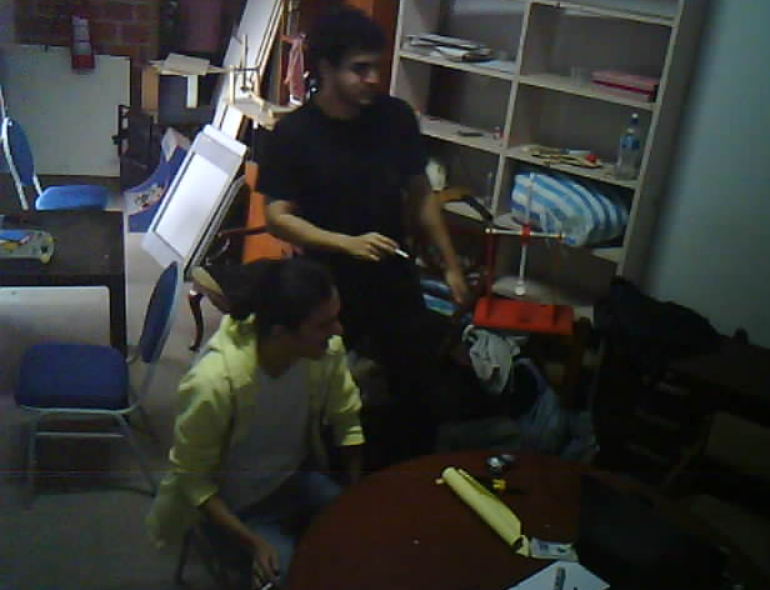person: (144, 267, 375, 589), (267, 10, 494, 313)
